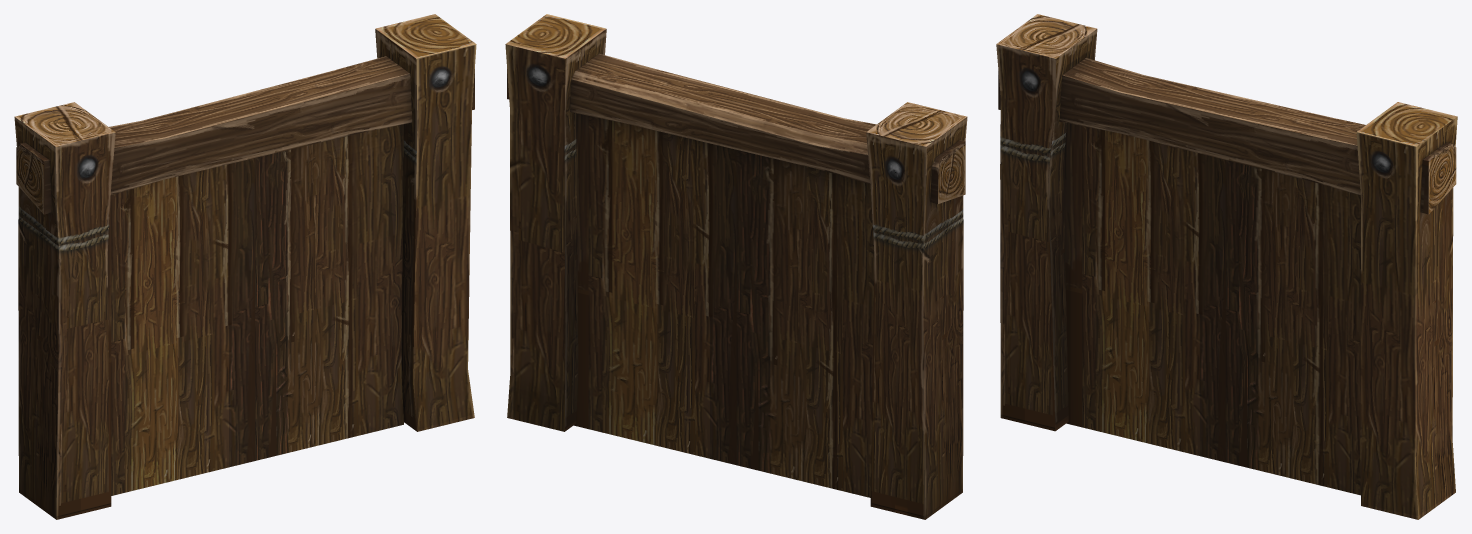
File: Wall_wood_el3.fbx
The picture shows the model from 3 angles, left to right: view 1: azimuth 30°, elevation 25°; view 2: azimuth 150°, elevation 25°; view 3: azimuth 330°, elevation 25°; orthographic projection.
Visible parts, largest first — view 1: towers2_3; view 2: towers2_3; view 3: towers2_3.
Boxes of the visible parts, <box> form: towers2_3: <box>14,14,476,519</box>; towers2_3: <box>505,14,967,519</box>; towers2_3: <box>996,14,1457,519</box>.
Size of the model in its own units: 2.45 by 2.05 by 0.4071.
1 material, 1 textured.
